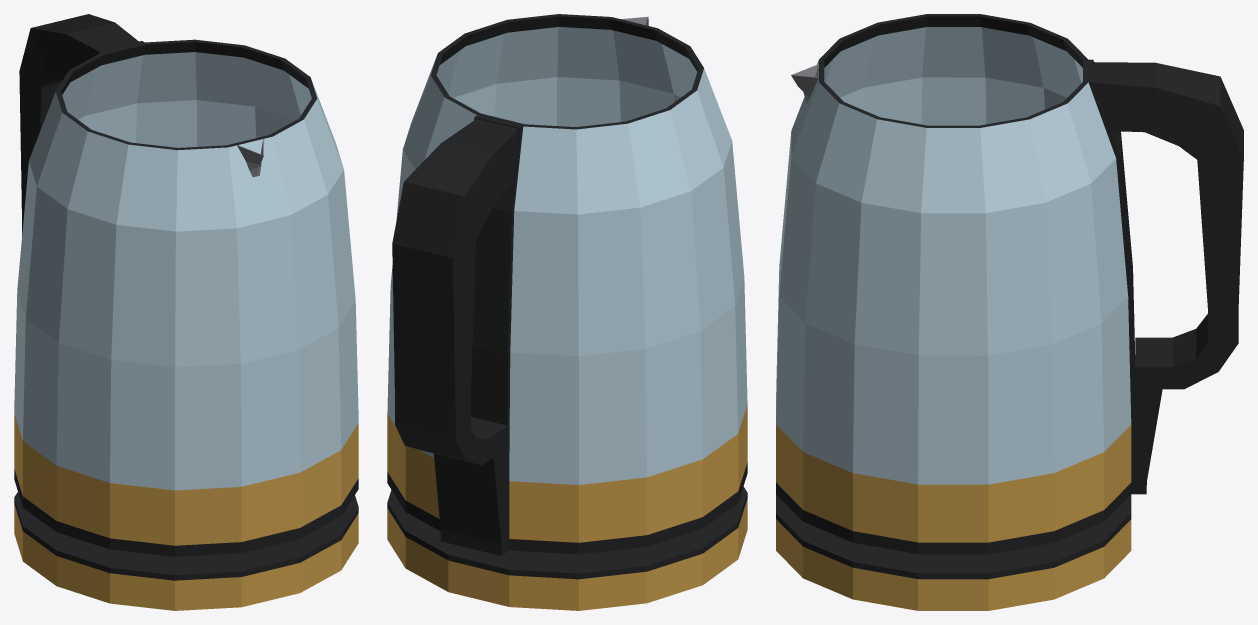
The model's file is kettlemodern_01_D.gltf.
3 views of the same model, side by side, from view 1: azimuth 30°, elevation 25°; view 2: azimuth 150°, elevation 25°; view 3: azimuth 270°, elevation 25° (orthographic). The views are drawn at different scales.
Parts seen in each view (by area): view 1: kettlemodern_01_D, Electrickettlemodern_01_D; view 2: kettlemodern_01_D, Electrickettlemodern_01_D; view 3: kettlemodern_01_D, Electrickettlemodern_01_D.
Part boxes in pixels (<box>): kettlemodern_01_D: <box>14,14,358,556</box>; Electrickettlemodern_01_D: <box>14,492,358,610</box>; kettlemodern_01_D: <box>387,14,747,555</box>; Electrickettlemodern_01_D: <box>387,486,747,610</box>; kettlemodern_01_D: <box>776,14,1243,554</box>; Electrickettlemodern_01_D: <box>776,494,1131,610</box>.
Bounding box in the file's own units: 0.1717 × 0.2485 × 0.2261.
Materials: 1 (1 with a texture image).
